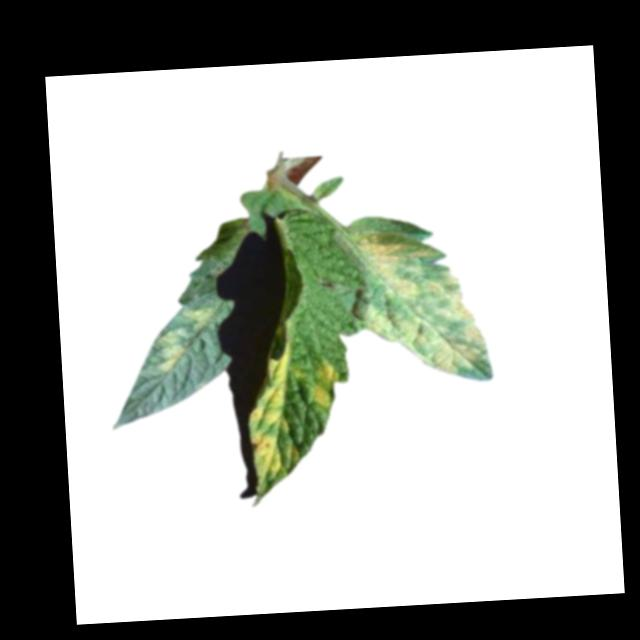Leaf_Mold: (354, 225, 489, 380), (242, 338, 302, 497), (309, 354, 341, 410), (154, 326, 190, 375), (183, 305, 215, 328)
